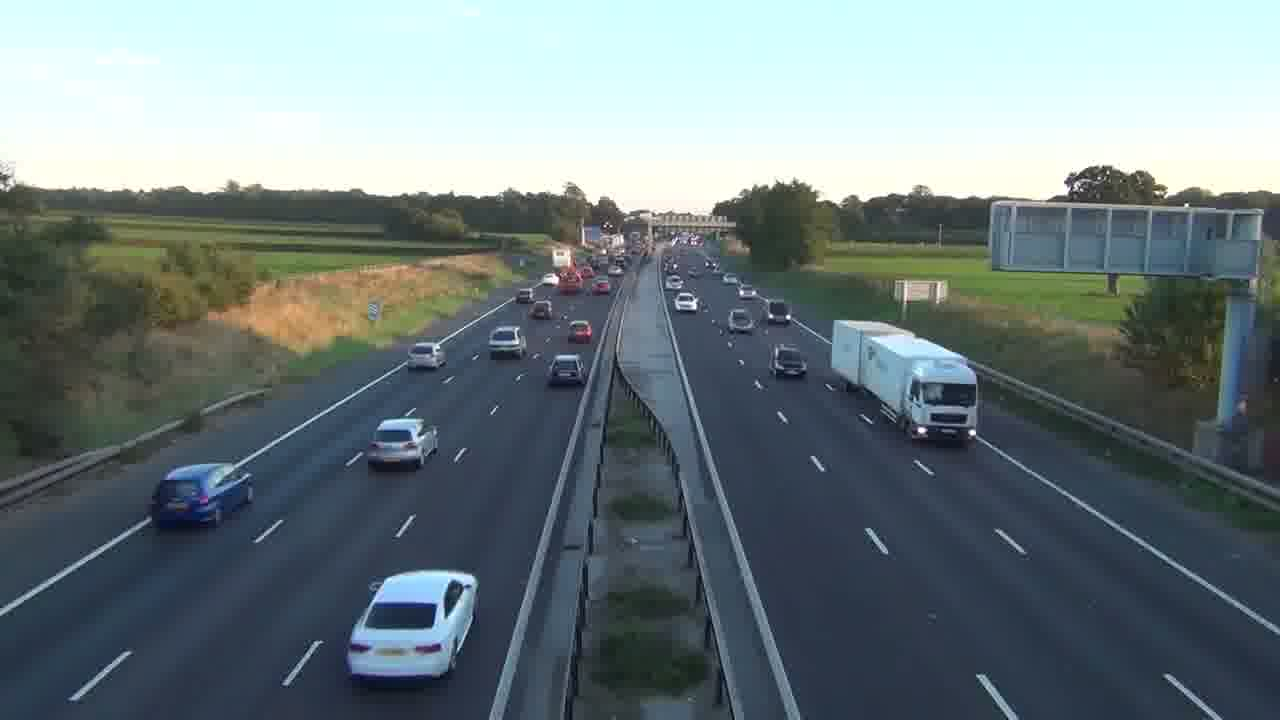car: (345, 568, 480, 684), (148, 462, 255, 528), (367, 417, 438, 471), (546, 353, 584, 388), (770, 344, 808, 377), (407, 341, 445, 370), (568, 320, 593, 344)
truck: (830, 319, 979, 446)
